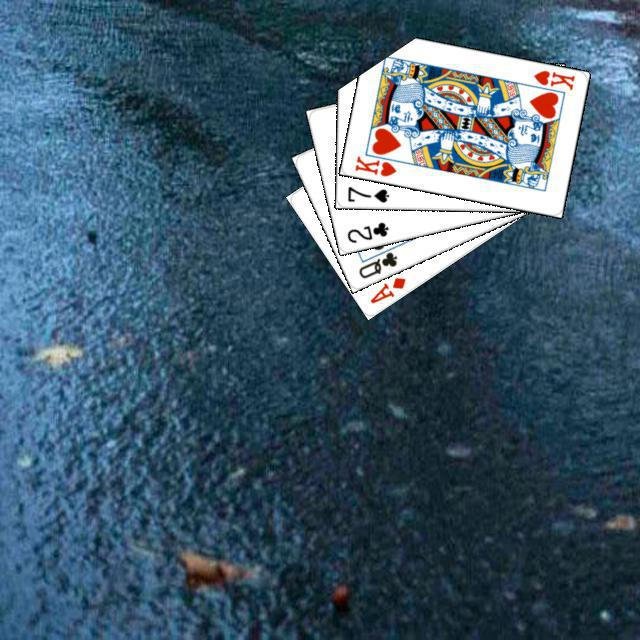2c: (342, 217, 390, 245)
7s: (343, 182, 391, 204)
Ad: (365, 272, 407, 306)
Kh: (350, 147, 404, 178), (529, 65, 576, 92)
Qc: (354, 241, 399, 280)
